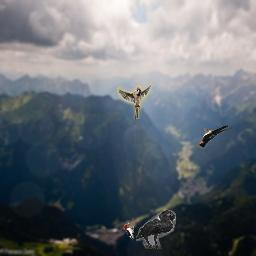Crow: (136, 210, 176, 249)
Sparrow: (117, 79, 153, 119)
Swallow: (196, 125, 233, 148)
Woodpecker: (124, 223, 134, 241)
